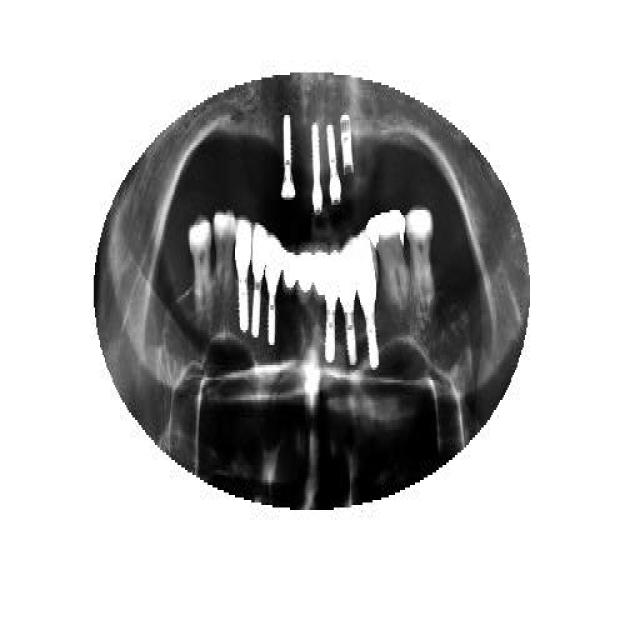Fillings: (368, 207, 412, 315), (312, 245, 328, 315), (281, 250, 299, 302), (298, 248, 312, 310)
Implant: (355, 230, 379, 378), (338, 235, 358, 367), (232, 212, 252, 332), (322, 250, 340, 375), (265, 230, 280, 352), (252, 220, 266, 342), (308, 118, 324, 218), (280, 110, 296, 202), (325, 120, 341, 210), (338, 115, 354, 183)
